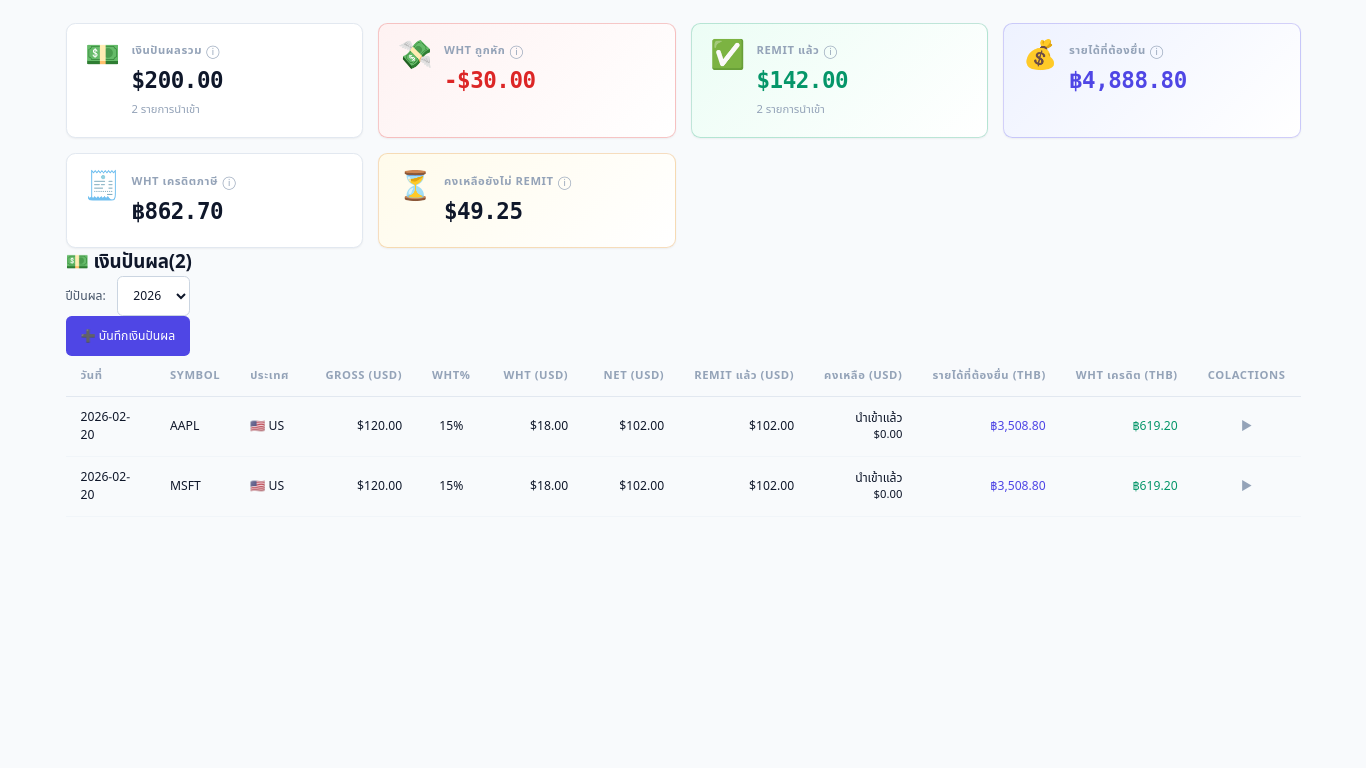
DividendTab list identity › expands one record without changing the other rows
What coordinates should you click on to do the following:
click the row with class "trade-row" that starts with "AAPL"
I would click on:
 (683, 426)
Its box is x1=66 y1=396 x2=1300 y2=456.
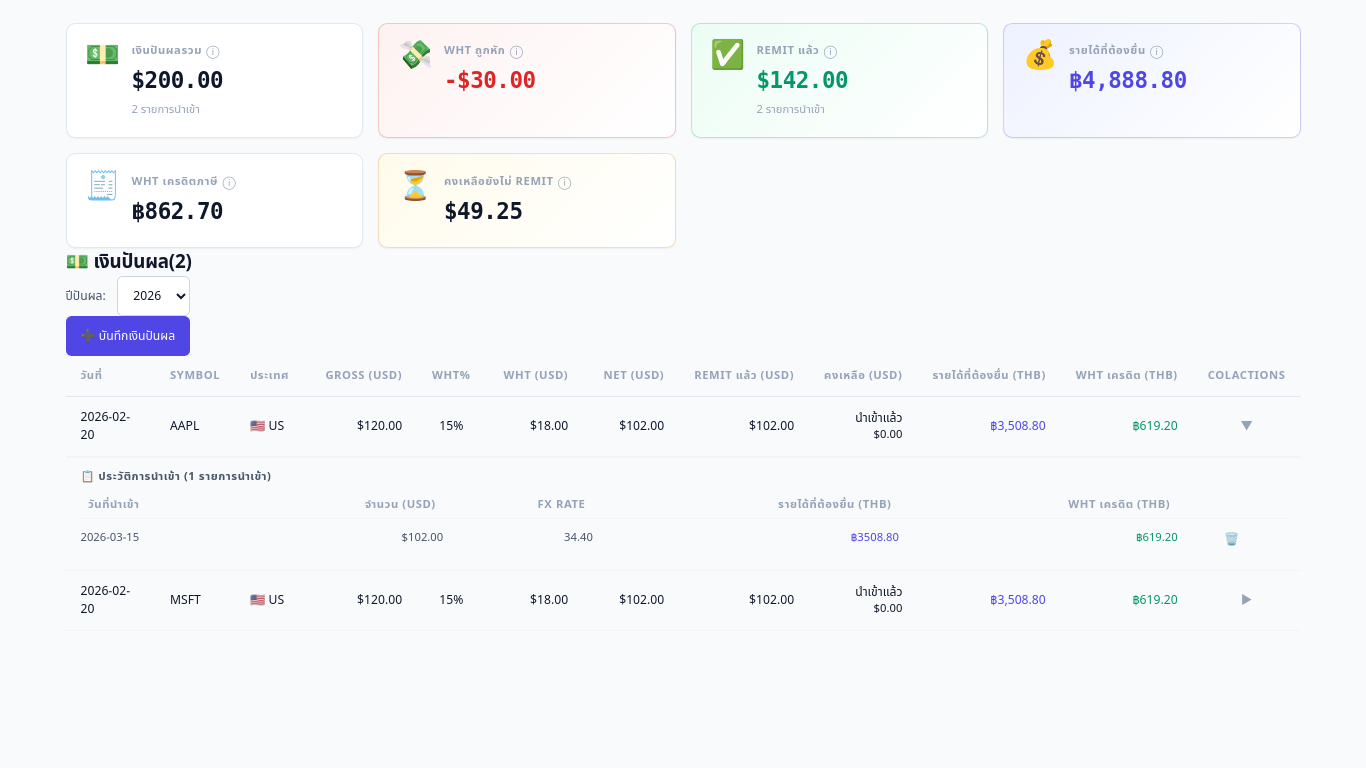
Expected: the number of rows with class "remittance-history-row" is 1, x1=66 y1=456 x2=1300 y2=570
